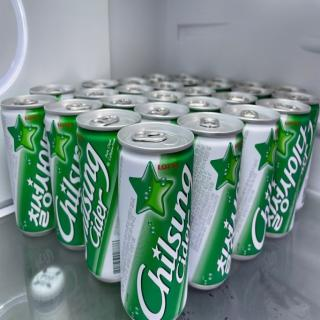chilsung: (115, 117, 194, 320), (178, 109, 244, 292), (78, 106, 141, 288)
